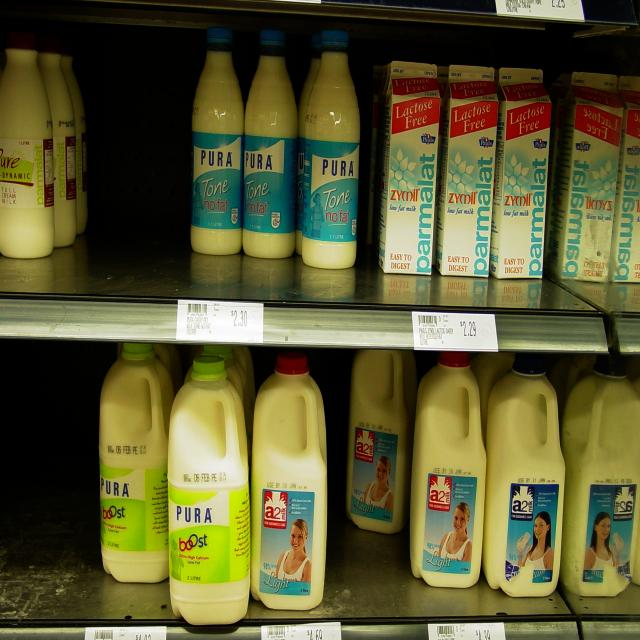empty_space: (3, 346, 102, 622), (88, 56, 184, 292), (333, 541, 407, 617)
